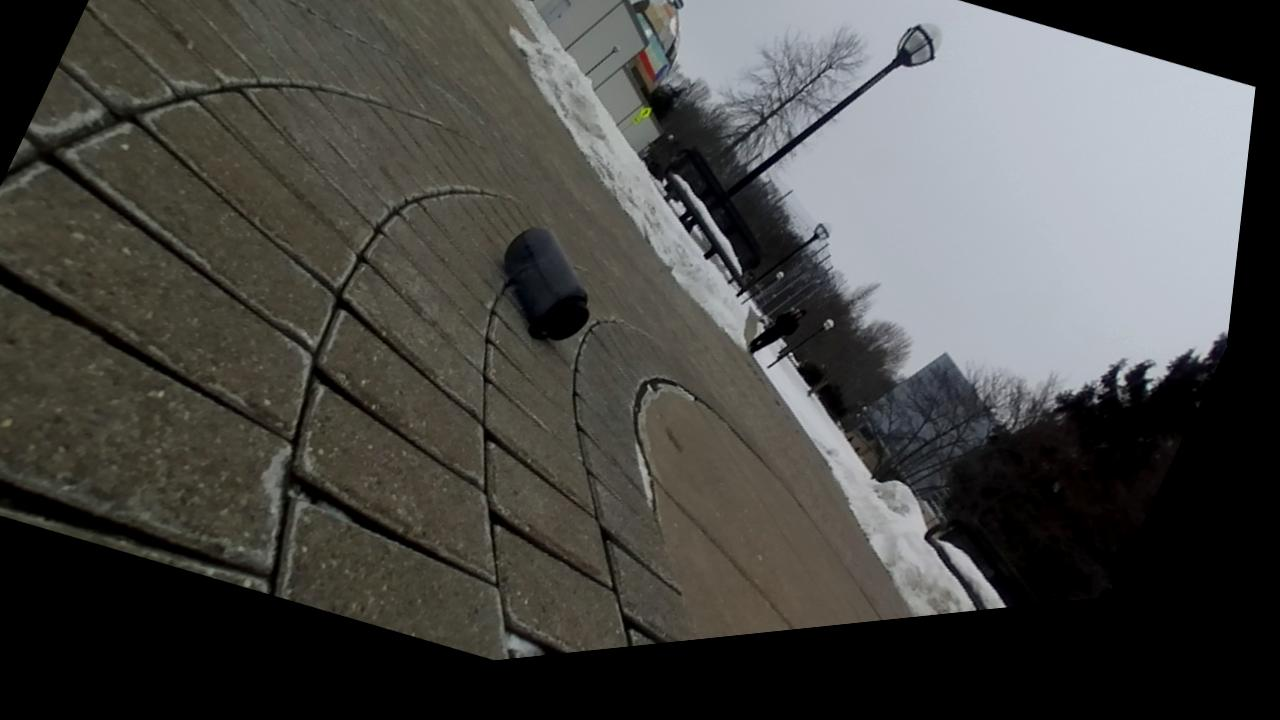bottle: (503, 227, 588, 340)
